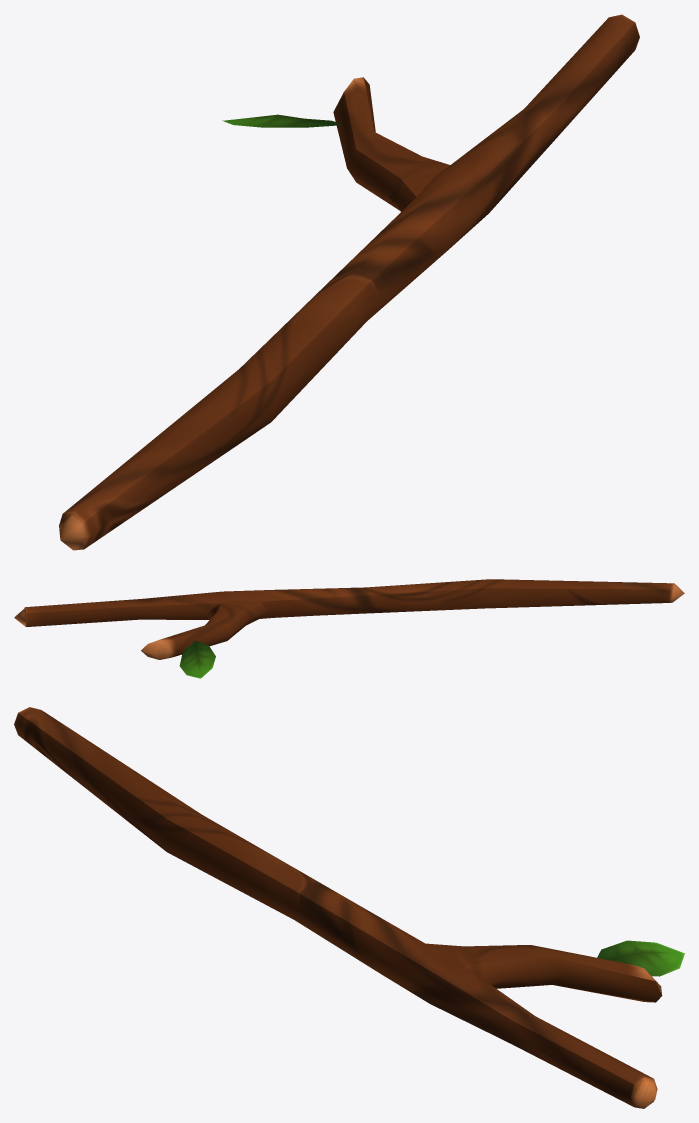
The model's file is branch.fbx.
3 views of the same model, one above another, from view 1: azimuth 30°, elevation 25°; view 2: azimuth 150°, elevation 25°; view 3: azimuth 270°, elevation 25° (orthographic). The views are drawn at different scales.
Parts seen in each view (by area): view 1: environment:branch; view 2: environment:branch; view 3: environment:branch.
Boxes of the visible parts, box(x1,y1,x2,y2) form: environment:branch: box(59, 14, 639, 550); environment:branch: box(14, 579, 684, 678); environment:branch: box(14, 707, 684, 1108).
Bounding box in the file's own units: 1.27 × 0.0716 × 0.9372.
